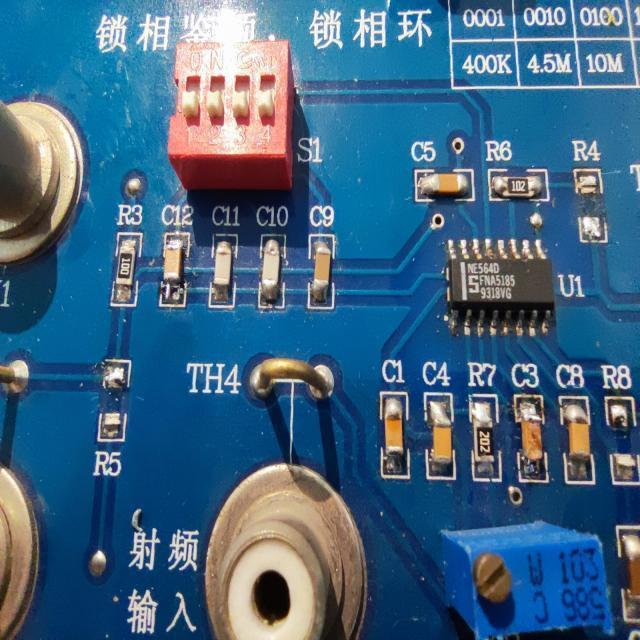Missing component: (596, 358, 640, 500), (90, 353, 135, 488), (565, 135, 611, 247)
